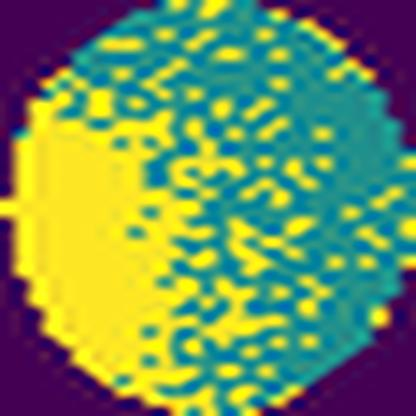Edge-Loc: (0, 88, 241, 416)
